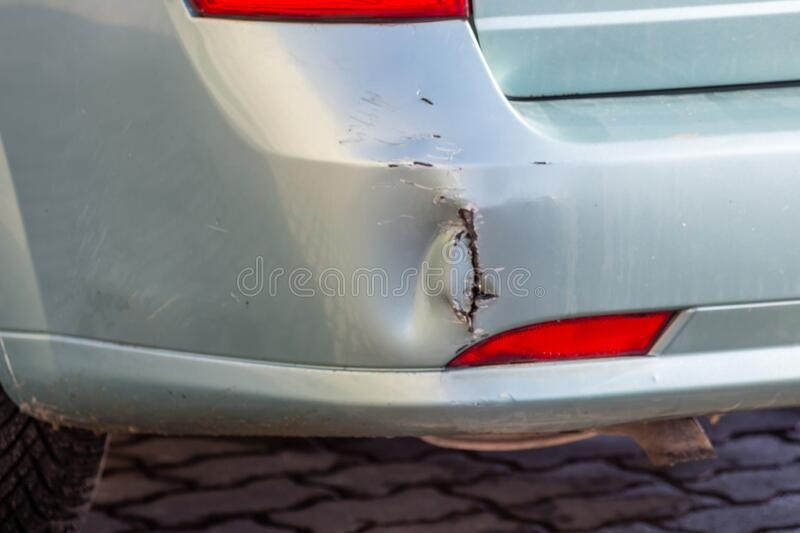rear-bumper-dent: (4, 83, 768, 428)
